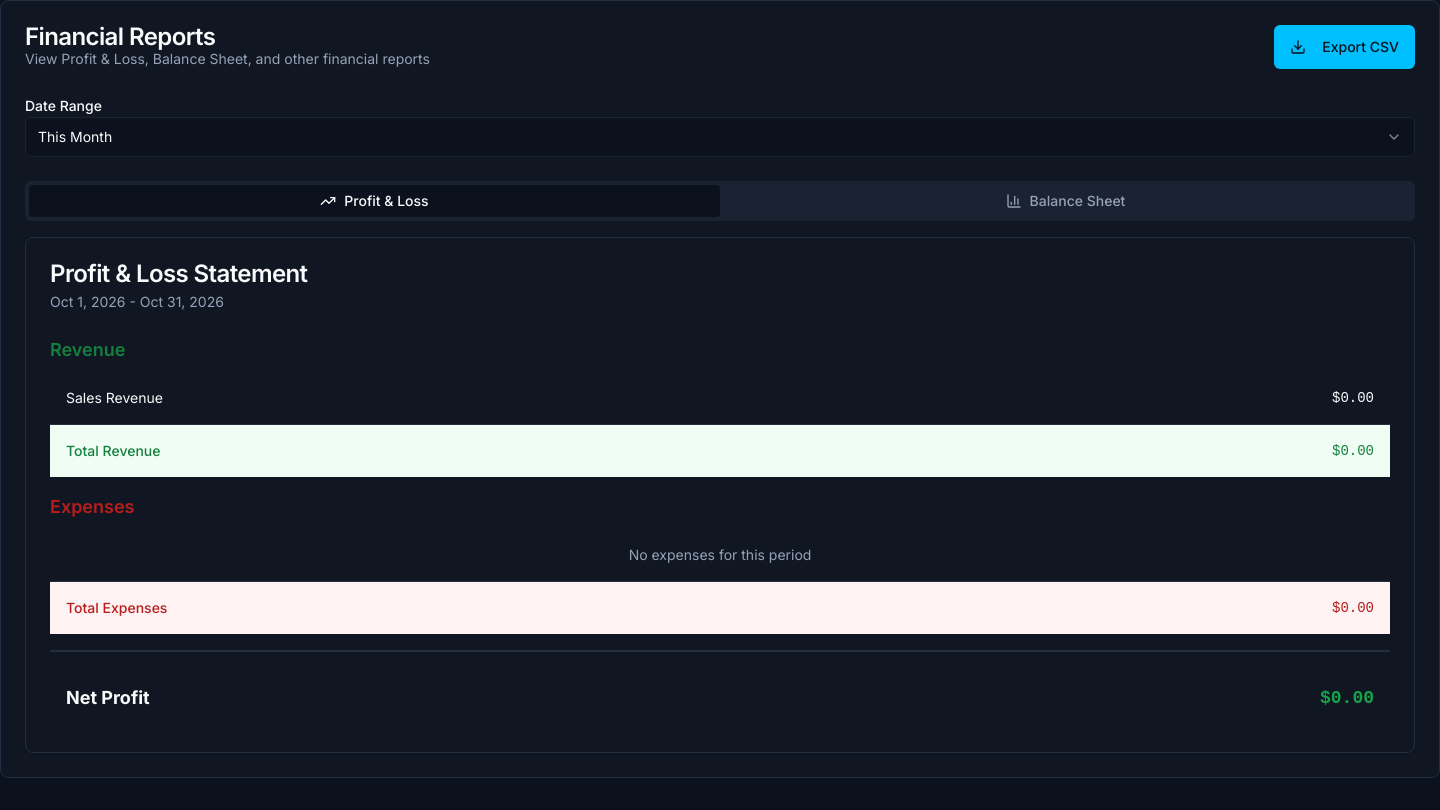
Scenario: FinancialReports balance sheet › adds a same-named account to the derived receivable instead of replacing it
The width and height of the screenshot is (1440, 810).
Expected: the heading "Financial Reports" is shown, [25, 22, 215, 51]
Click the tab "Balance Sheet" at (1066, 201), box [720, 185, 1411, 217]
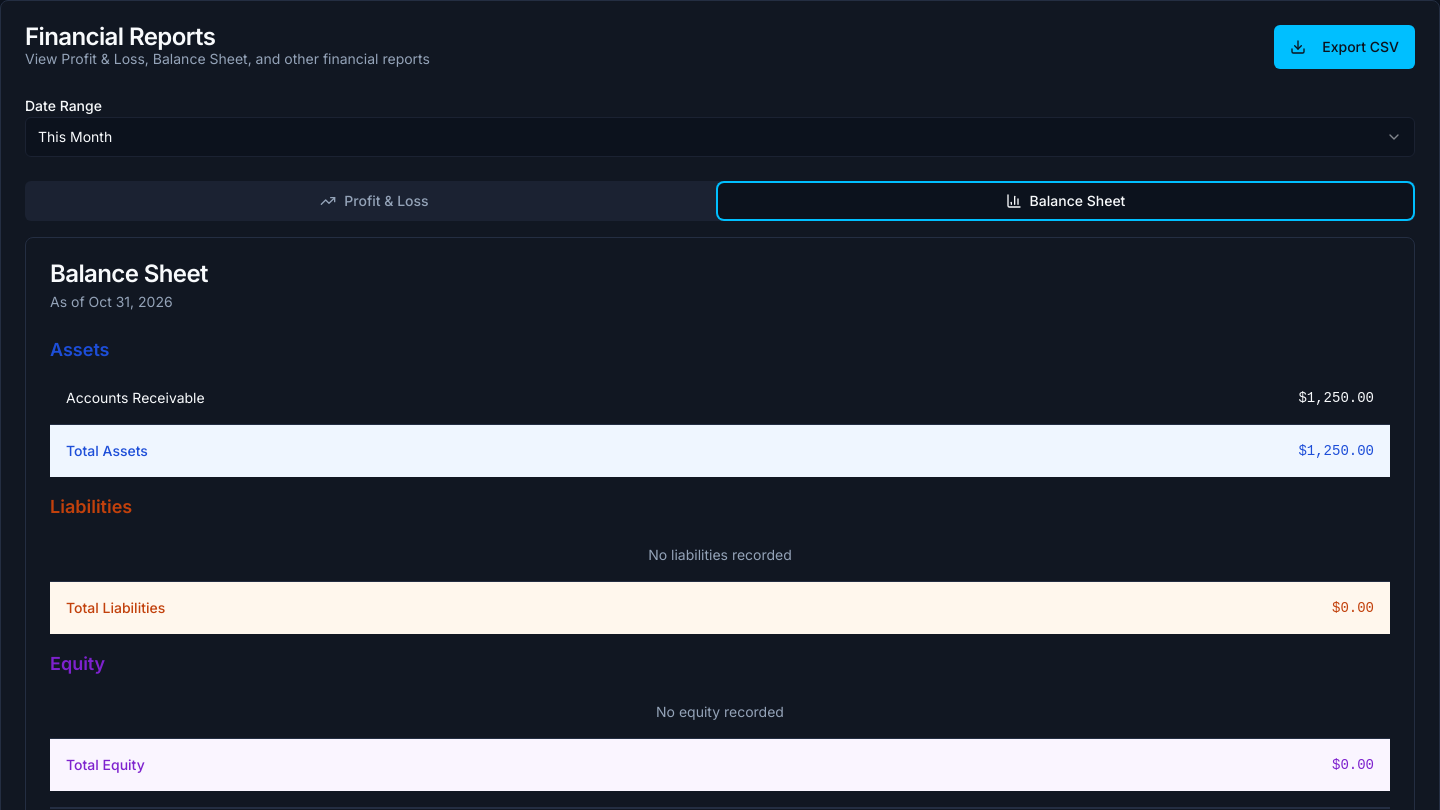
Result: the text "Total Assets" is shown at [50, 424, 872, 477]
Result: the text "$1,250.00" in the row of "Accounts Receivable" is shown at [1298, 390, 1374, 406]
